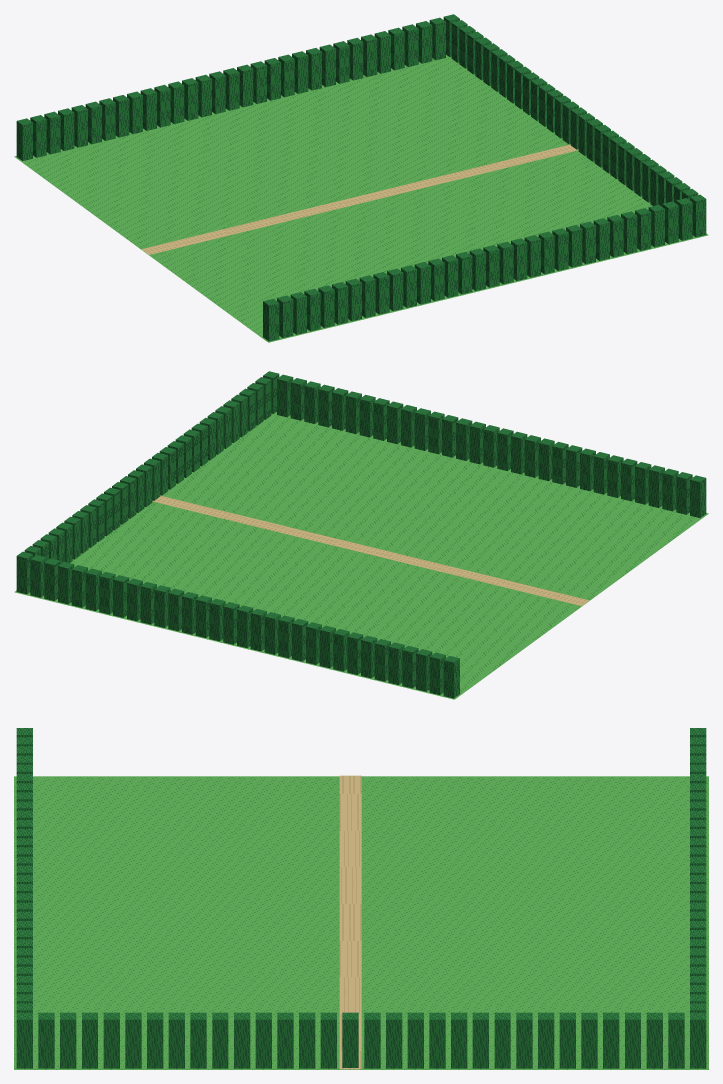
File: town-east.gltf
3 views of the same model, one above another, from view 1: azimuth 30°, elevation 25°; view 2: azimuth 150°, elevation 25°; view 3: azimuth 270°, elevation 25° (orthographic). The views are drawn at different scales.
Parts seen in each view (by area): view 1: town-east; view 2: town-east; view 3: town-east.
Boxes of the visible parts, x1=… form: town-east: x1=14, y1=14, x2=708, y2=342; town-east: x1=14, y1=371, x2=708, y2=699; town-east: x1=14, y1=728, x2=708, y2=1069.
Bounding box in the file's own units: 512 × 40 × 512.
3 materials, 3 textured.
